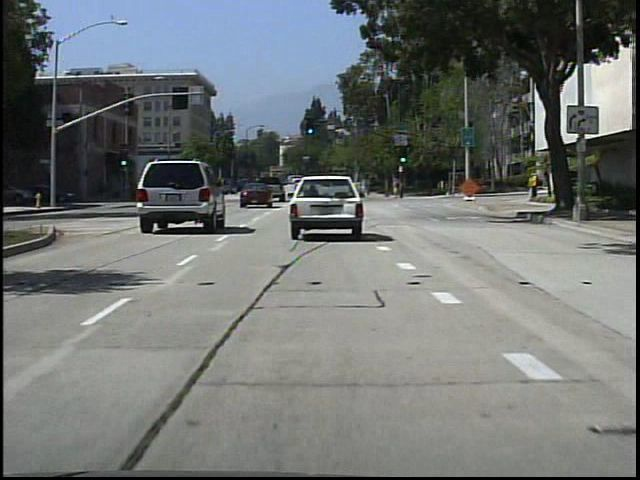person: (393, 173, 408, 203)
